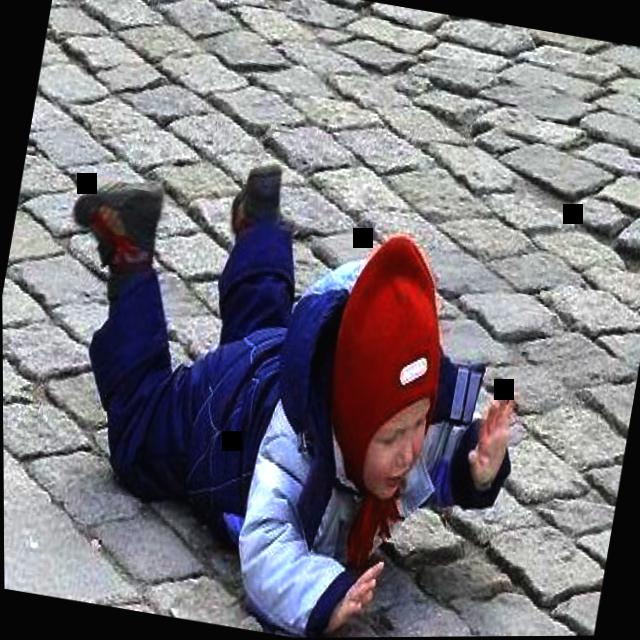Fall-Detected: (1, 116, 573, 640)
